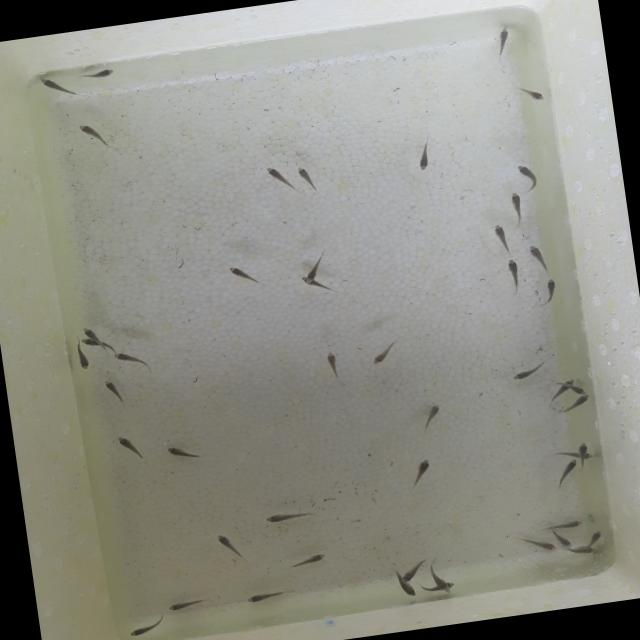fingerling: (366, 333, 408, 367), (75, 120, 116, 154), (292, 161, 324, 200), (264, 162, 298, 198), (489, 21, 516, 64), (215, 530, 248, 564), (408, 135, 436, 175), (510, 78, 550, 106), (509, 359, 552, 385), (227, 262, 266, 290), (501, 253, 526, 296), (37, 72, 75, 100), (301, 250, 331, 284), (124, 616, 166, 640), (111, 348, 152, 372), (116, 435, 148, 465), (406, 454, 436, 486), (505, 190, 530, 228), (262, 508, 312, 527), (546, 512, 588, 533), (163, 594, 209, 613), (417, 402, 446, 432), (243, 588, 294, 605), (536, 276, 562, 309), (527, 242, 552, 274), (290, 550, 330, 570), (489, 222, 513, 255), (522, 536, 560, 556), (514, 160, 539, 190), (165, 443, 202, 463), (78, 66, 116, 84), (400, 558, 426, 584), (556, 458, 584, 482), (323, 349, 343, 381), (105, 378, 126, 403), (570, 542, 598, 558), (74, 352, 95, 373), (555, 531, 577, 550), (398, 582, 420, 600), (436, 573, 453, 595), (586, 528, 606, 546), (570, 394, 592, 407), (80, 324, 100, 338), (576, 439, 590, 458), (572, 384, 588, 397), (80, 336, 92, 348)
